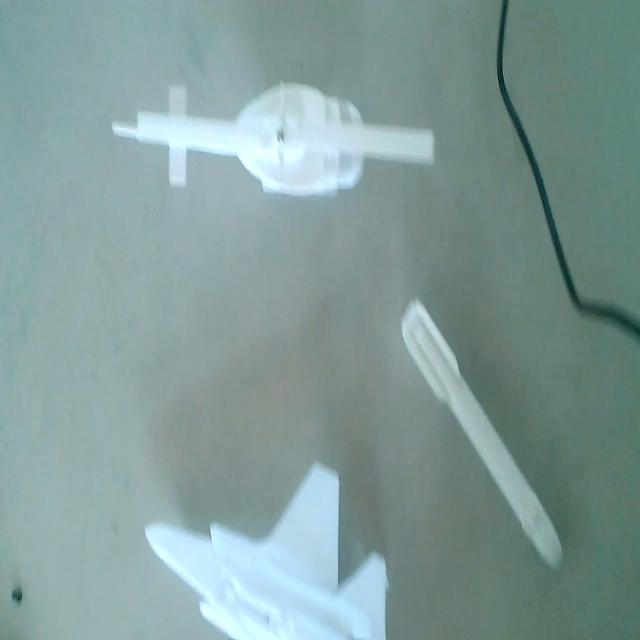Helicopter: (111, 68, 438, 203)
Jet: (144, 462, 398, 640)
Rocket: (400, 292, 568, 570)
